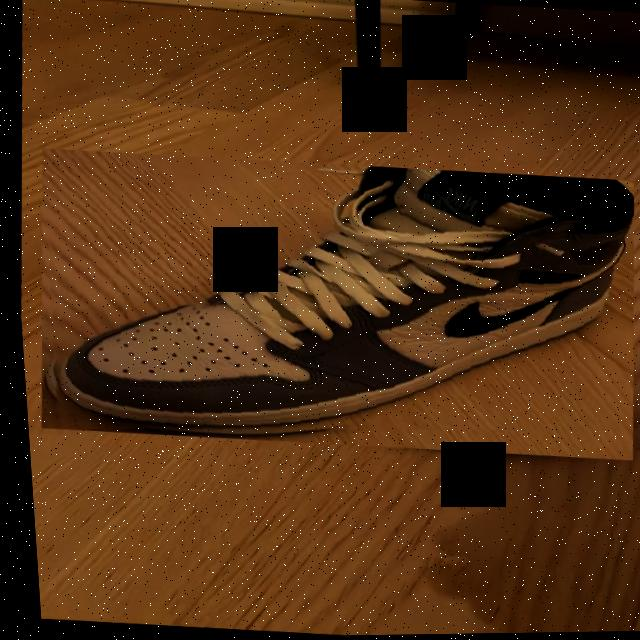shoe: (21, 142, 640, 469)
